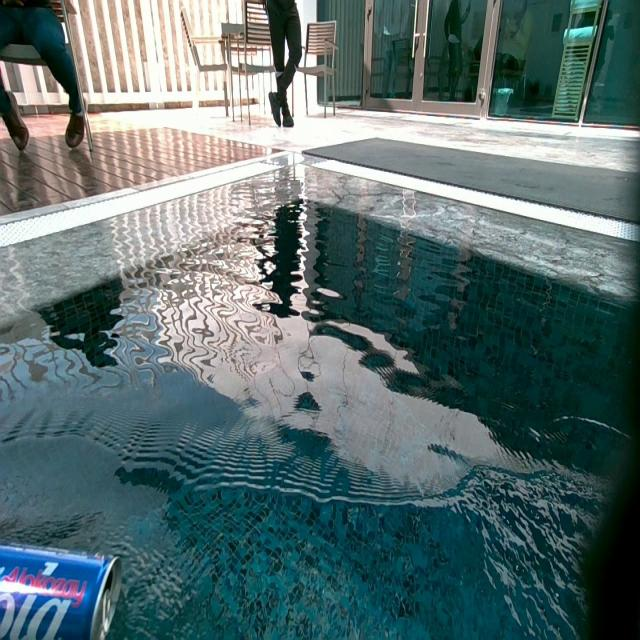Cans: (0, 540, 122, 639)
